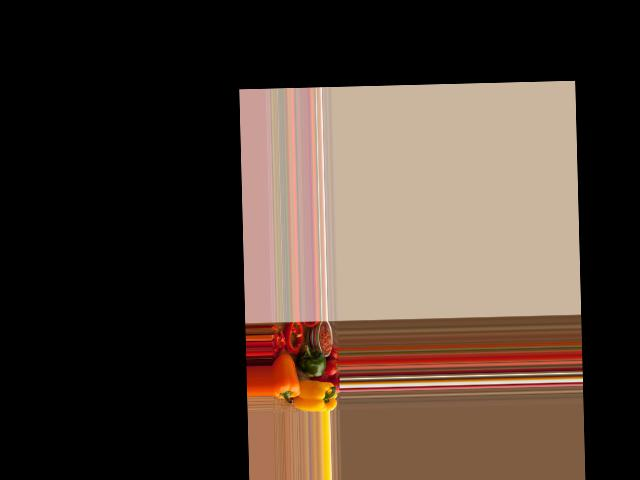bell_pepper: (300, 378, 337, 411)
